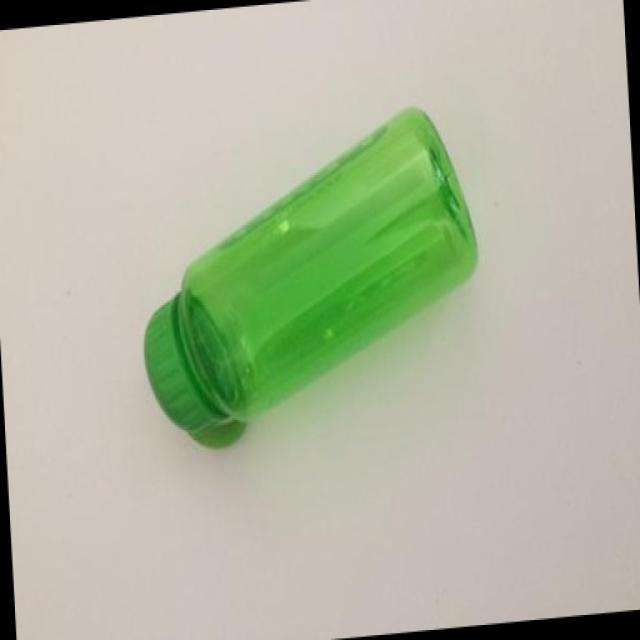plastico: (125, 83, 518, 490)
